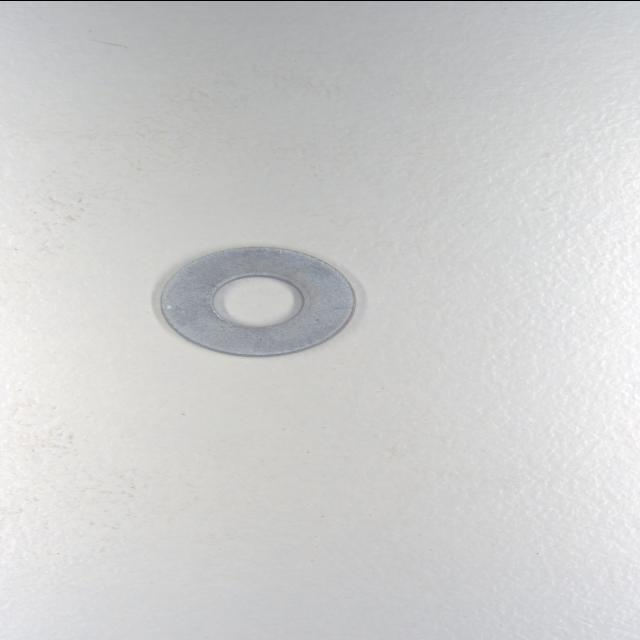washer: (154, 244, 362, 358)
